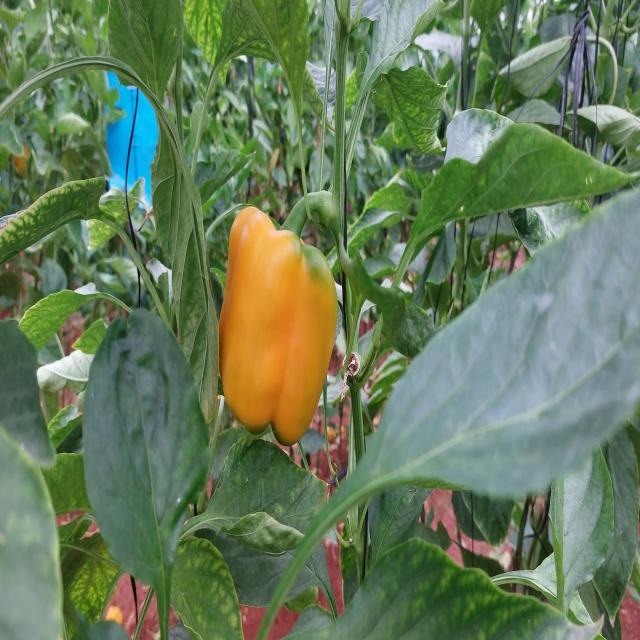Yellow-Ready-to-Harvest: (214, 200, 340, 450)
